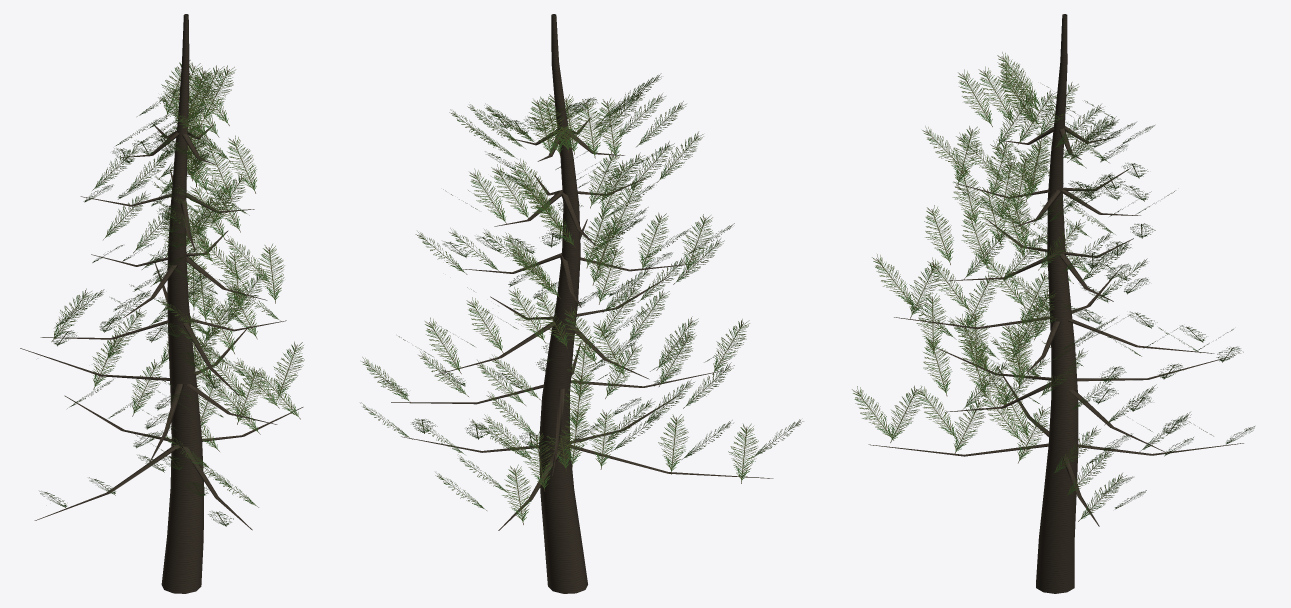
File: Pine_31_LOD1.fbx
3 views of the same model, side by side, from view 1: azimuth 30°, elevation 25°; view 2: azimuth 150°, elevation 25°; view 3: azimuth 270°, elevation 25° (orthographic).
Parts seen in each view (by area): view 1: Pine_31_LOD1; view 2: Pine_31_LOD1; view 3: Pine_31_LOD1.
Boxes of the visible parts, x1=… form: Pine_31_LOD1: x1=20, y1=14, x2=304, y2=593; Pine_31_LOD1: x1=360, y1=14, x2=803, y2=593; Pine_31_LOD1: x1=852, y1=14, x2=1254, y2=593.
Size of the model in its own units: 559 by 804 by 560.
